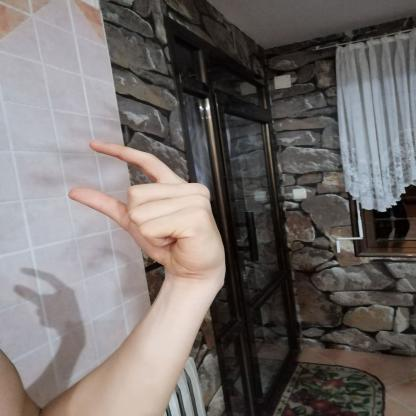DELL: (57, 131, 236, 283)
